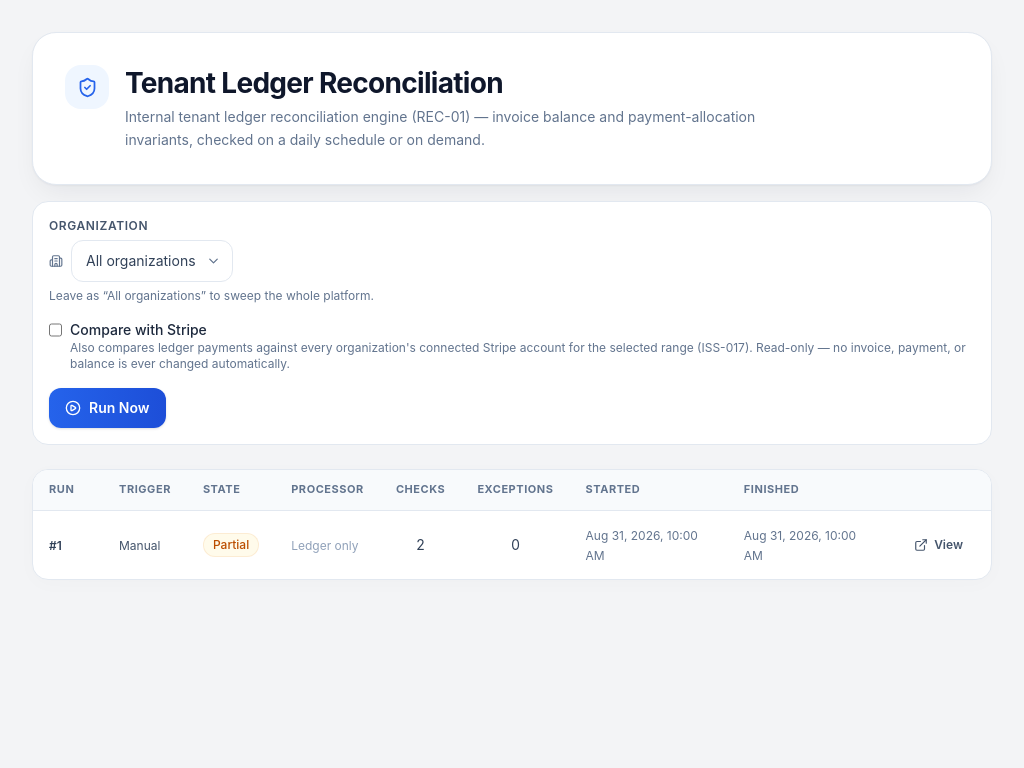
Test: shows the date-range controls only once 'Compare with Stripe' is checked
Expected: the button "Run Now" is shown, [49,388,166,428]
Expected: the field labelled "start date" is not shown
Click the checkbox labelled "Compare with Stripe" at (56, 330), box [49,322,62,338]
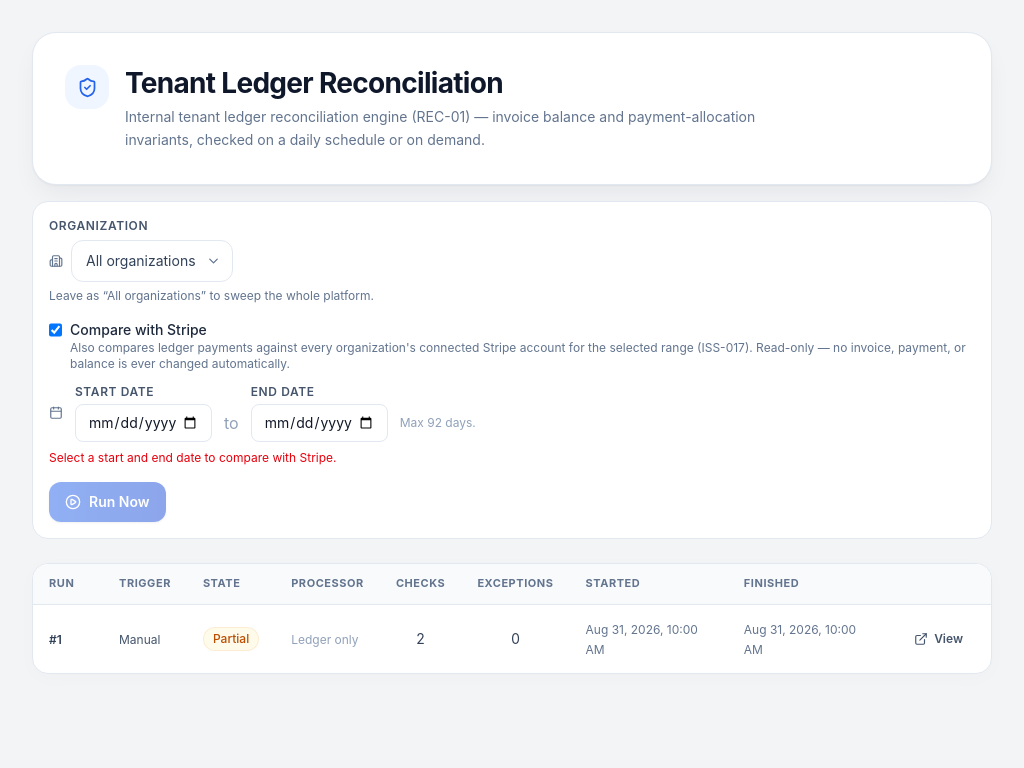
Expected: the date field labelled "Start date" is shown, [75,404,212,442]
Expected: the date field labelled "End date" is shown, [251,404,388,442]
